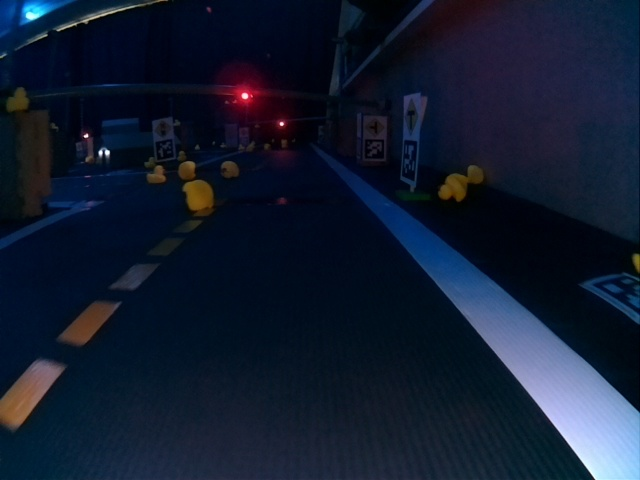Duckie: (183, 179, 215, 210), (437, 177, 463, 203), (8, 88, 29, 110), (147, 166, 166, 184), (180, 161, 198, 178), (467, 165, 483, 183), (220, 162, 238, 176), (143, 156, 154, 166), (177, 150, 188, 159)
Intersection sign: (404, 97, 418, 133), (365, 118, 384, 138)
QR code: (591, 274, 639, 325), (401, 141, 417, 183), (366, 142, 387, 160), (155, 141, 174, 160)
Signal sign: (154, 120, 171, 138)
